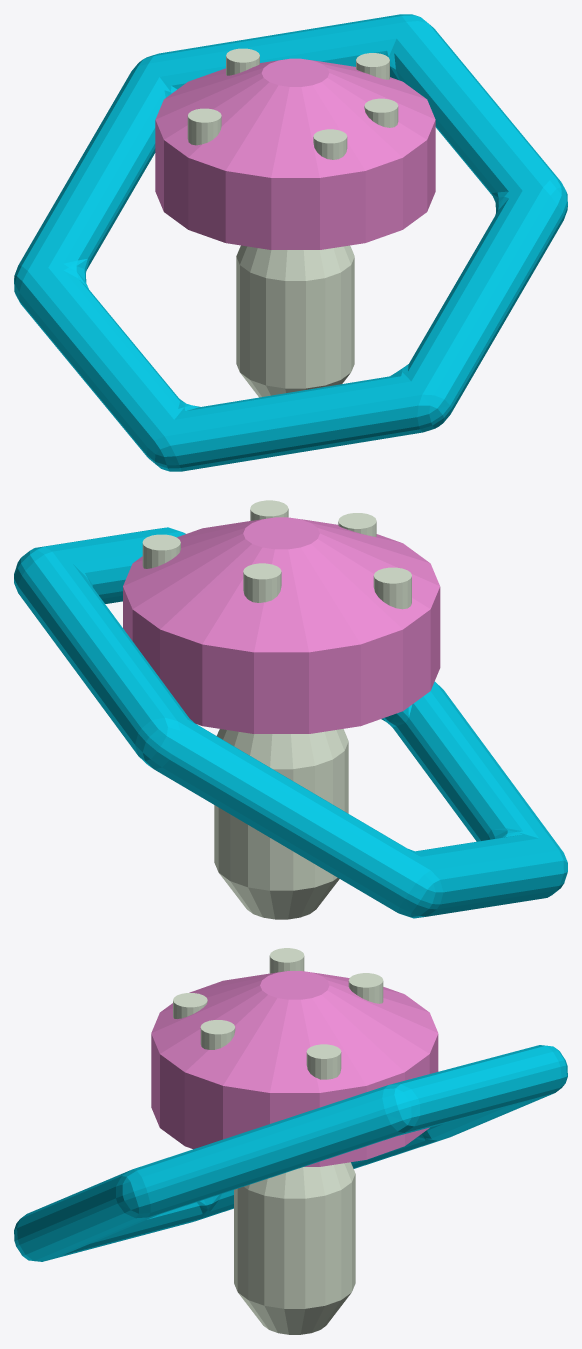
Rendered from meowverse_mushroom.glb.
The picture shows the model from 3 angles, top to bottom: view 1: azimuth 30°, elevation 25°; view 2: azimuth 150°, elevation 25°; view 3: azimuth 270°, elevation 25°; orthographic projection. The views are drawn at different scales.
Parts seen in each view (by area): view 1: Ring, Mushroom; view 2: Mushroom, Ring; view 3: Mushroom, Ring.
Boxes of the visible parts, bbox=[...] form: Ring: bbox=[14, 14, 567, 471]; Mushroom: bbox=[155, 48, 435, 397]; Mushroom: bbox=[123, 500, 440, 919]; Ring: bbox=[14, 527, 567, 918]; Mushroom: bbox=[151, 948, 438, 1334]; Ring: bbox=[14, 1045, 567, 1261].
Size of the model in its own units: 1.5 by 1.15 by 1.73.
